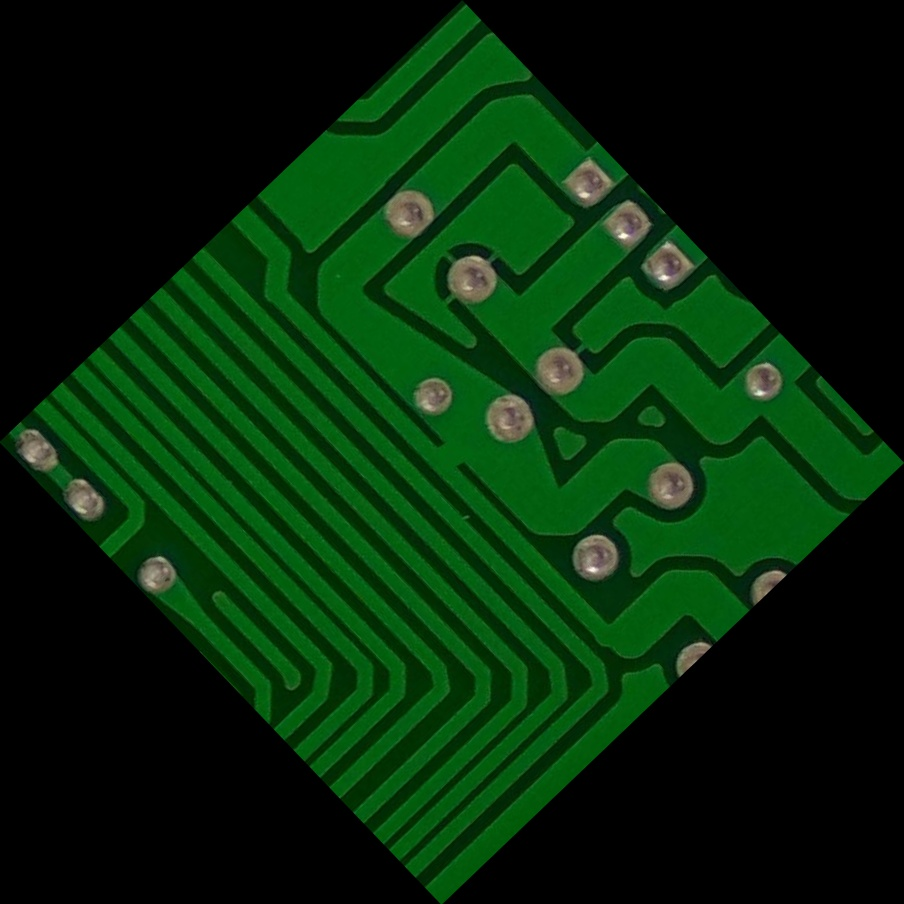short: (413, 413, 491, 491)
